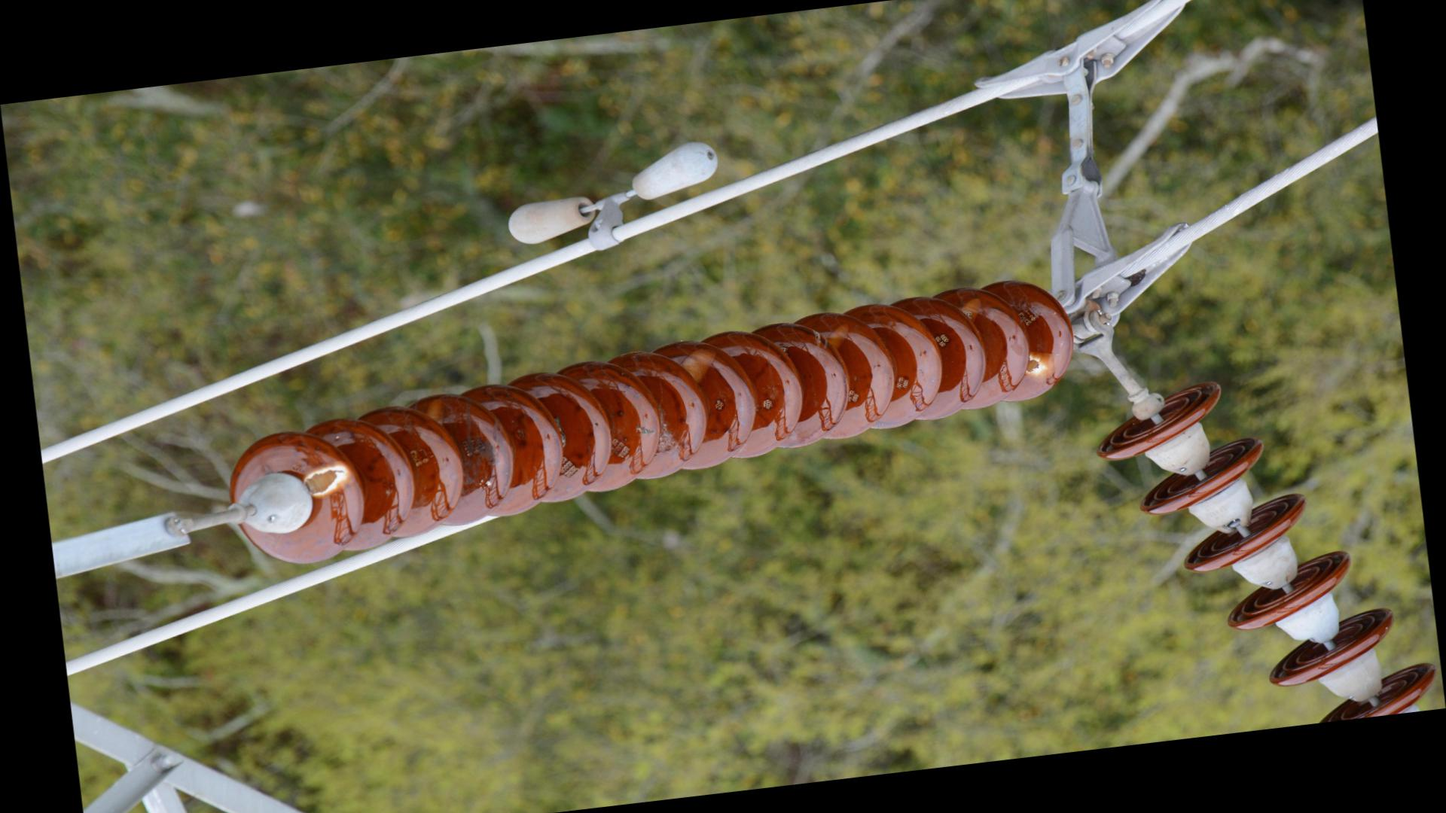damper: (496, 134, 734, 266)
